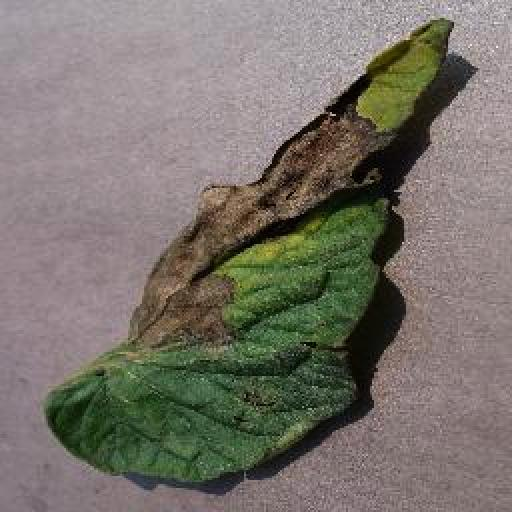disease_tomato: (48, 14, 454, 482)
